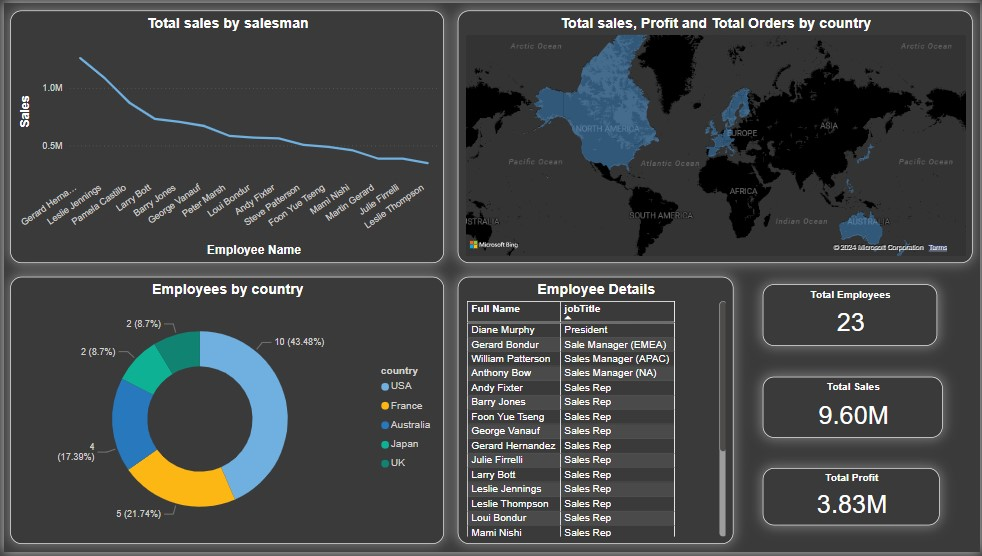

The dashboard page shown, as its layout file describes it:
{"tool":"powerbi","page":{"name":"Employees Dashboard","canvas":[1280,720],"ordinal":2},"visuals":[{"type":"card","title":"Total Employees","fields":{"Values":["PBIElements.Total Employees"]},"box":[995.7,368.1,228.7,80.9],"z":0},{"type":"card","title":"Total Sales","fields":{"Values":["PBIElements.Total sales"]},"box":[995.7,489.4,236.2,79.8],"z":1000},{"type":"lineChart","title":"Total sales by salesman","fields":{"Y":["PBIElements.Total sales"],"Category":["classicmodels employees.Full Name"]},"box":[7.4,10.6,569.1,330.9],"z":2000},{"type":"tableEx","title":"Employee Details","fields":{"Values":["classicmodels employees.Full Name","classicmodels employees.jobTitle"]},"box":[594.7,359.6,361.7,350],"z":3000},{"type":"donutChart","title":"Employees by country","fields":{"Y":["classicmodels employees.Full Name"],"Category":["classicmodels offices.country"]},"box":[7.4,359.6,569.1,350],"z":4000},{"type":"filledMap","fields":{"Category":["classicmodels customers.country"]},"box":[594.7,10.6,675.5,330.9],"z":5000},{"type":"card","title":"Total Profit","fields":{"Values":["PBIElements.Profit"]},"box":[995.7,610.6,231.9,75.5],"z":6000}]}

Visuals, with their boxes in screenshot pixels (x1, y1, x2, y2), scaled from the page's 1280x720 canvas onto the 982x556 screenshot:
"Total Employees" card: [764,284,939,347]
"Total Sales" card: [764,378,945,440]
"Total sales by salesman" lineChart: [6,8,442,264]
"Employee Details" tableEx: [456,278,734,548]
"Employees by country" donutChart: [6,278,442,548]
filledMap - classicmodels customers.country: [456,8,974,264]
"Total Profit" card: [764,472,942,530]
